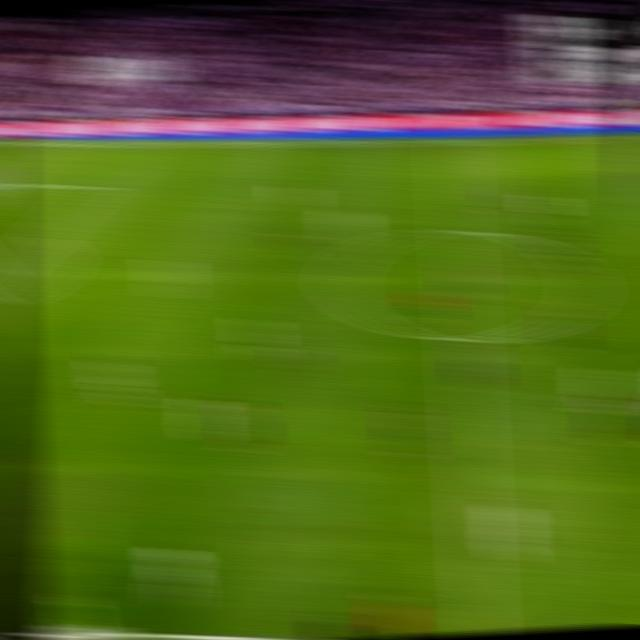bigarea_top_inner: (81, 178, 111, 194)
halfcircle_bottom: (445, 325, 480, 353)
halfcircle_top: (439, 216, 474, 244)
midline_top_intersection: (437, 134, 467, 150)
top_arc_area_intersection: (29, 227, 59, 244)
